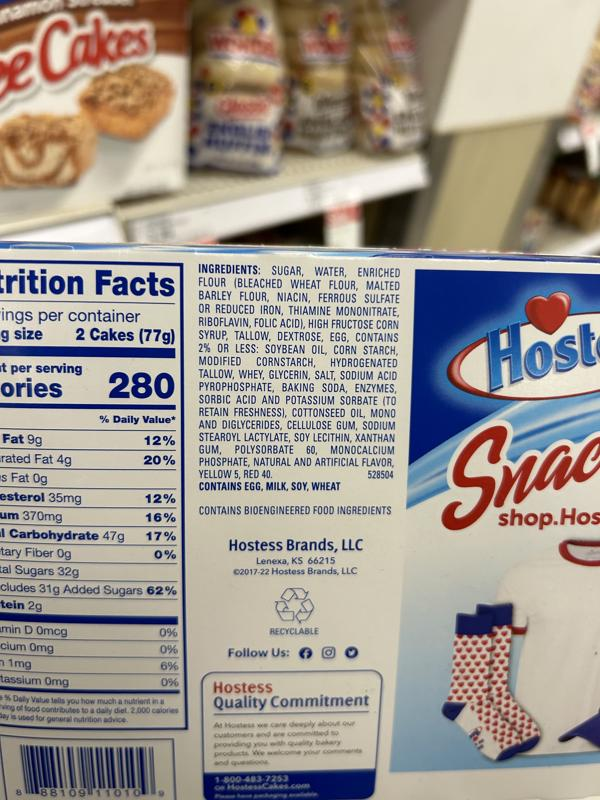ingredients: (195, 261, 403, 480)
